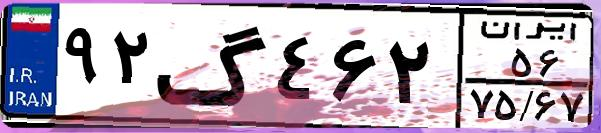2: (385, 28, 445, 110), (110, 28, 156, 98)
4: (270, 28, 330, 110)
5: (508, 27, 537, 80), (495, 70, 520, 125)
6: (330, 28, 385, 110), (537, 27, 568, 80), (535, 70, 560, 125)
7: (560, 70, 590, 125), (470, 70, 495, 125)
9: (57, 26, 110, 100)
گ: (156, 12, 270, 120)
